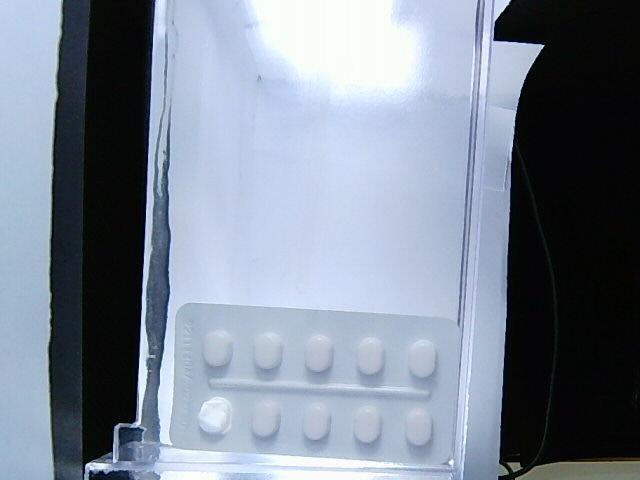Light Front: (168, 303, 465, 470)
No Pill Front: (198, 396, 233, 434)
Pill Front: (304, 334, 335, 373), (355, 336, 385, 375), (203, 330, 234, 366), (408, 339, 436, 378), (254, 334, 284, 370), (301, 403, 329, 441), (354, 405, 382, 443), (405, 408, 432, 446), (253, 403, 280, 438)
